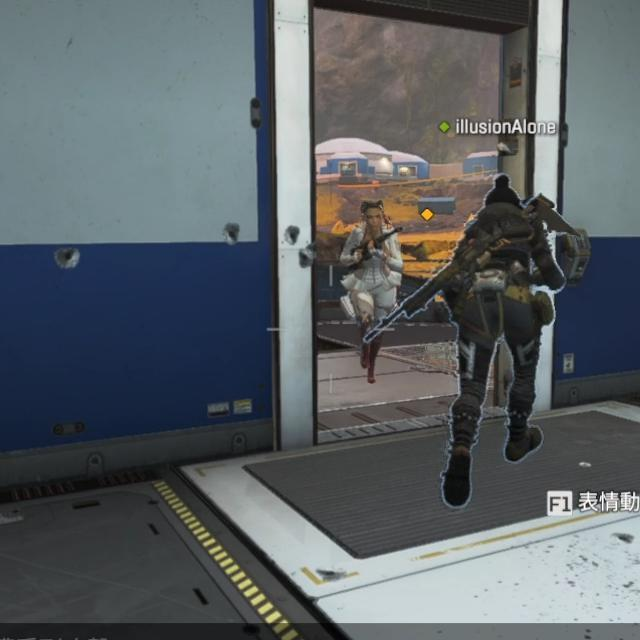avatar: (434, 171, 567, 514), (338, 196, 405, 386)
